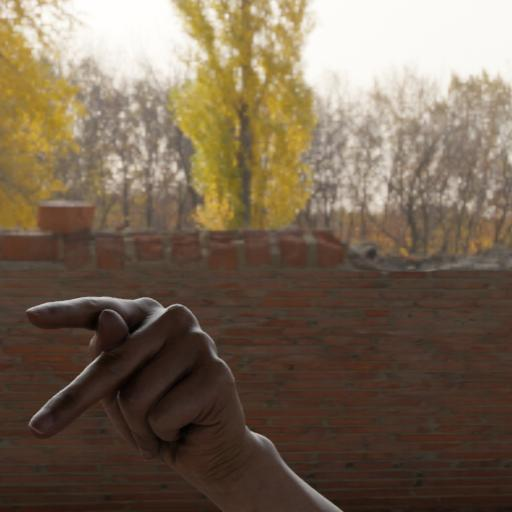P: (15, 281, 285, 478)
